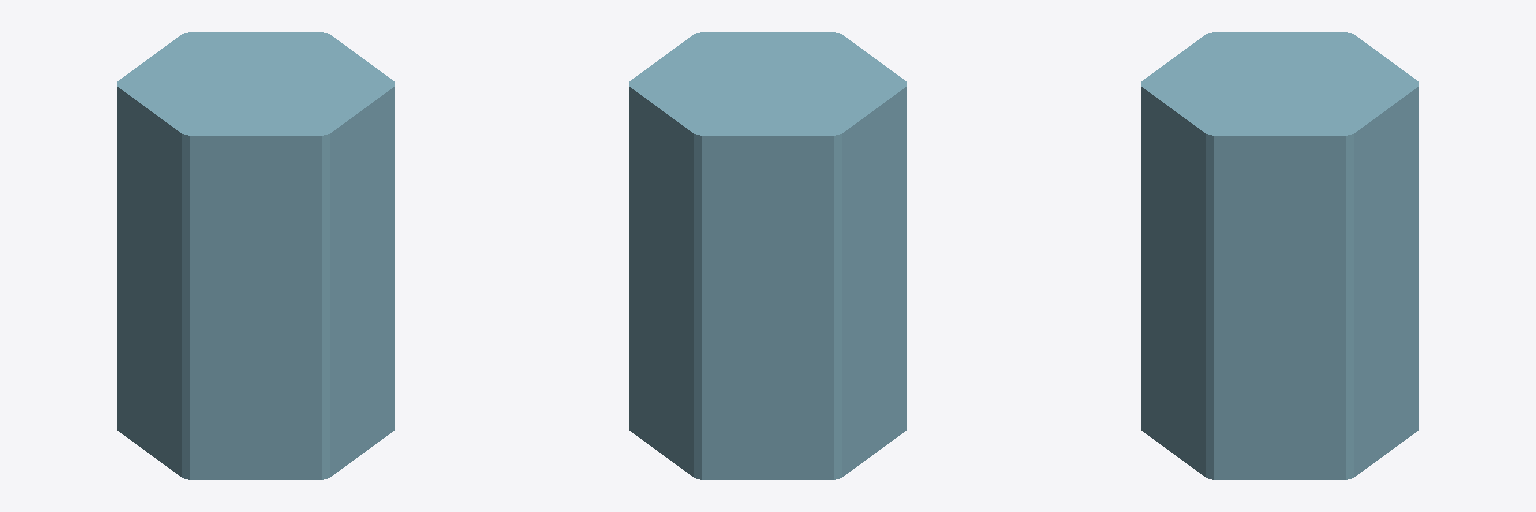
The model's file is Fulg_8C.obj.
3 renders of one model, left to right at view 1: azimuth 30°, elevation 25°; view 2: azimuth 150°, elevation 25°; view 3: azimuth 270°, elevation 25°, orthographic.
Visible parts, largest first — view 1: Circle; view 2: Circle; view 3: Circle.
Part boxes in pixels (bbox=[...]): Circle: bbox=[117, 32, 394, 479]; Circle: bbox=[629, 32, 906, 479]; Circle: bbox=[1141, 32, 1418, 479].
Size of the model in its own units: 1.73 by 2.67 by 1.96.